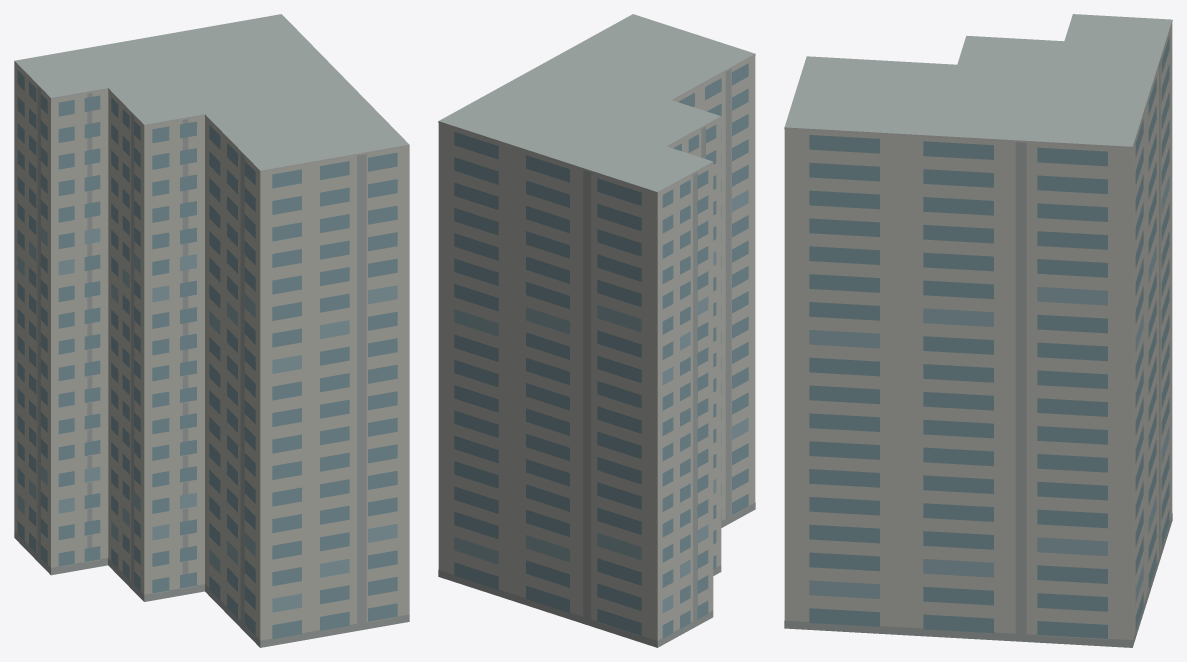
The model's file is residential-c2f0d5c1-8f9f-46bb-b577-885624dd2f3e.glb.
3 renders of one model, left to right at view 1: azimuth 30°, elevation 25°; view 2: azimuth 150°, elevation 25°; view 3: azimuth 270°, elevation 25°, orthographic. The views are drawn at different scales.
Visible parts, largest first — view 1: residential-c2f0d5c1-8f9f-46bb-b577-885624dd2f3e.tmp; view 2: residential-c2f0d5c1-8f9f-46bb-b577-885624dd2f3e.tmp; view 3: residential-c2f0d5c1-8f9f-46bb-b577-885624dd2f3e.tmp.
Boxes of the visible parts, box(x1,y1,x2,y2) form: residential-c2f0d5c1-8f9f-46bb-b577-885624dd2f3e.tmp: box(14, 14, 409, 647); residential-c2f0d5c1-8f9f-46bb-b577-885624dd2f3e.tmp: box(438, 14, 755, 647); residential-c2f0d5c1-8f9f-46bb-b577-885624dd2f3e.tmp: box(784, 14, 1172, 647).
Size of the model in its own units: 34.11 by 60 by 42.11.
